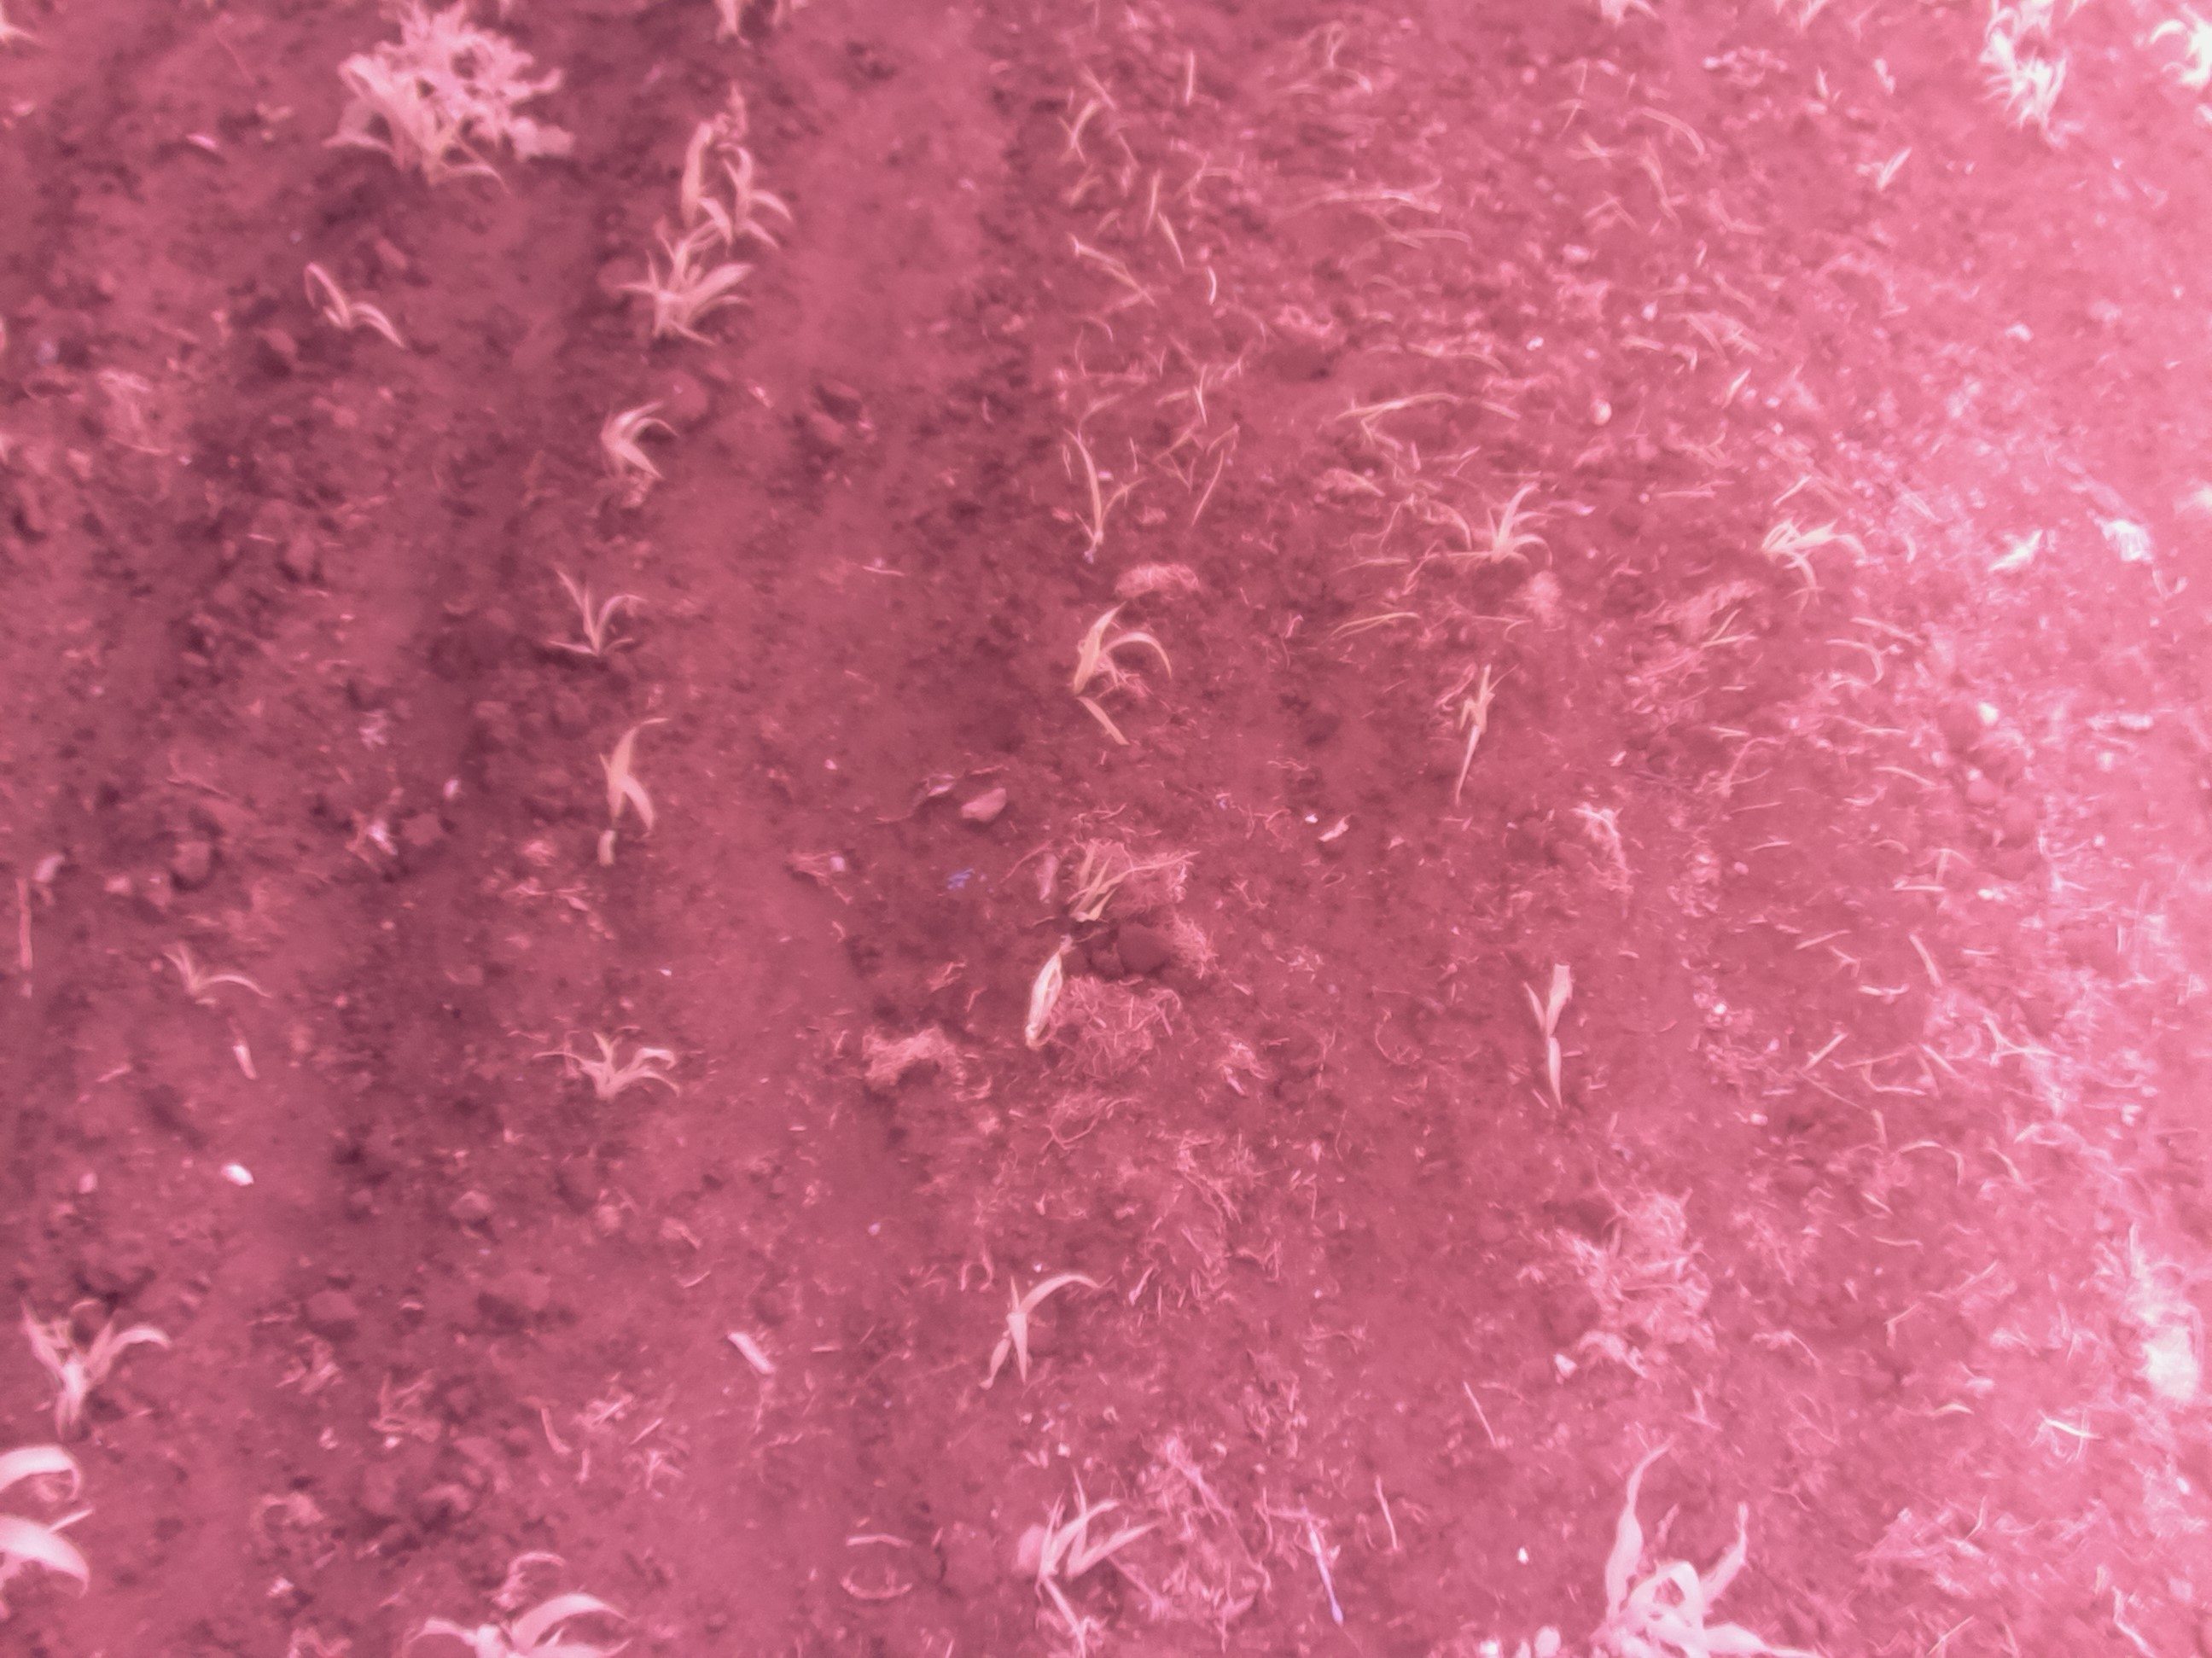Maiz: (1592, 1437, 1801, 1658), (333, 45, 503, 199), (9, 1291, 172, 1433), (604, 237, 756, 357), (524, 1008, 681, 1113), (1022, 1468, 1115, 1644), (1052, 1437, 1153, 1595), (416, 1588, 634, 1658), (982, 1252, 1089, 1383), (1061, 601, 1176, 721), (1052, 420, 1132, 592), (279, 258, 408, 359), (704, 125, 792, 263), (1463, 472, 1564, 589), (536, 554, 639, 667), (582, 709, 672, 836), (571, 397, 683, 486), (148, 935, 270, 1010), (1752, 507, 1872, 582), (1517, 956, 1580, 1087), (2008, 52, 2076, 146), (2149, 0, 2212, 94), (1451, 657, 1494, 791), (1991, 519, 2066, 592), (1024, 940, 1075, 1045)
